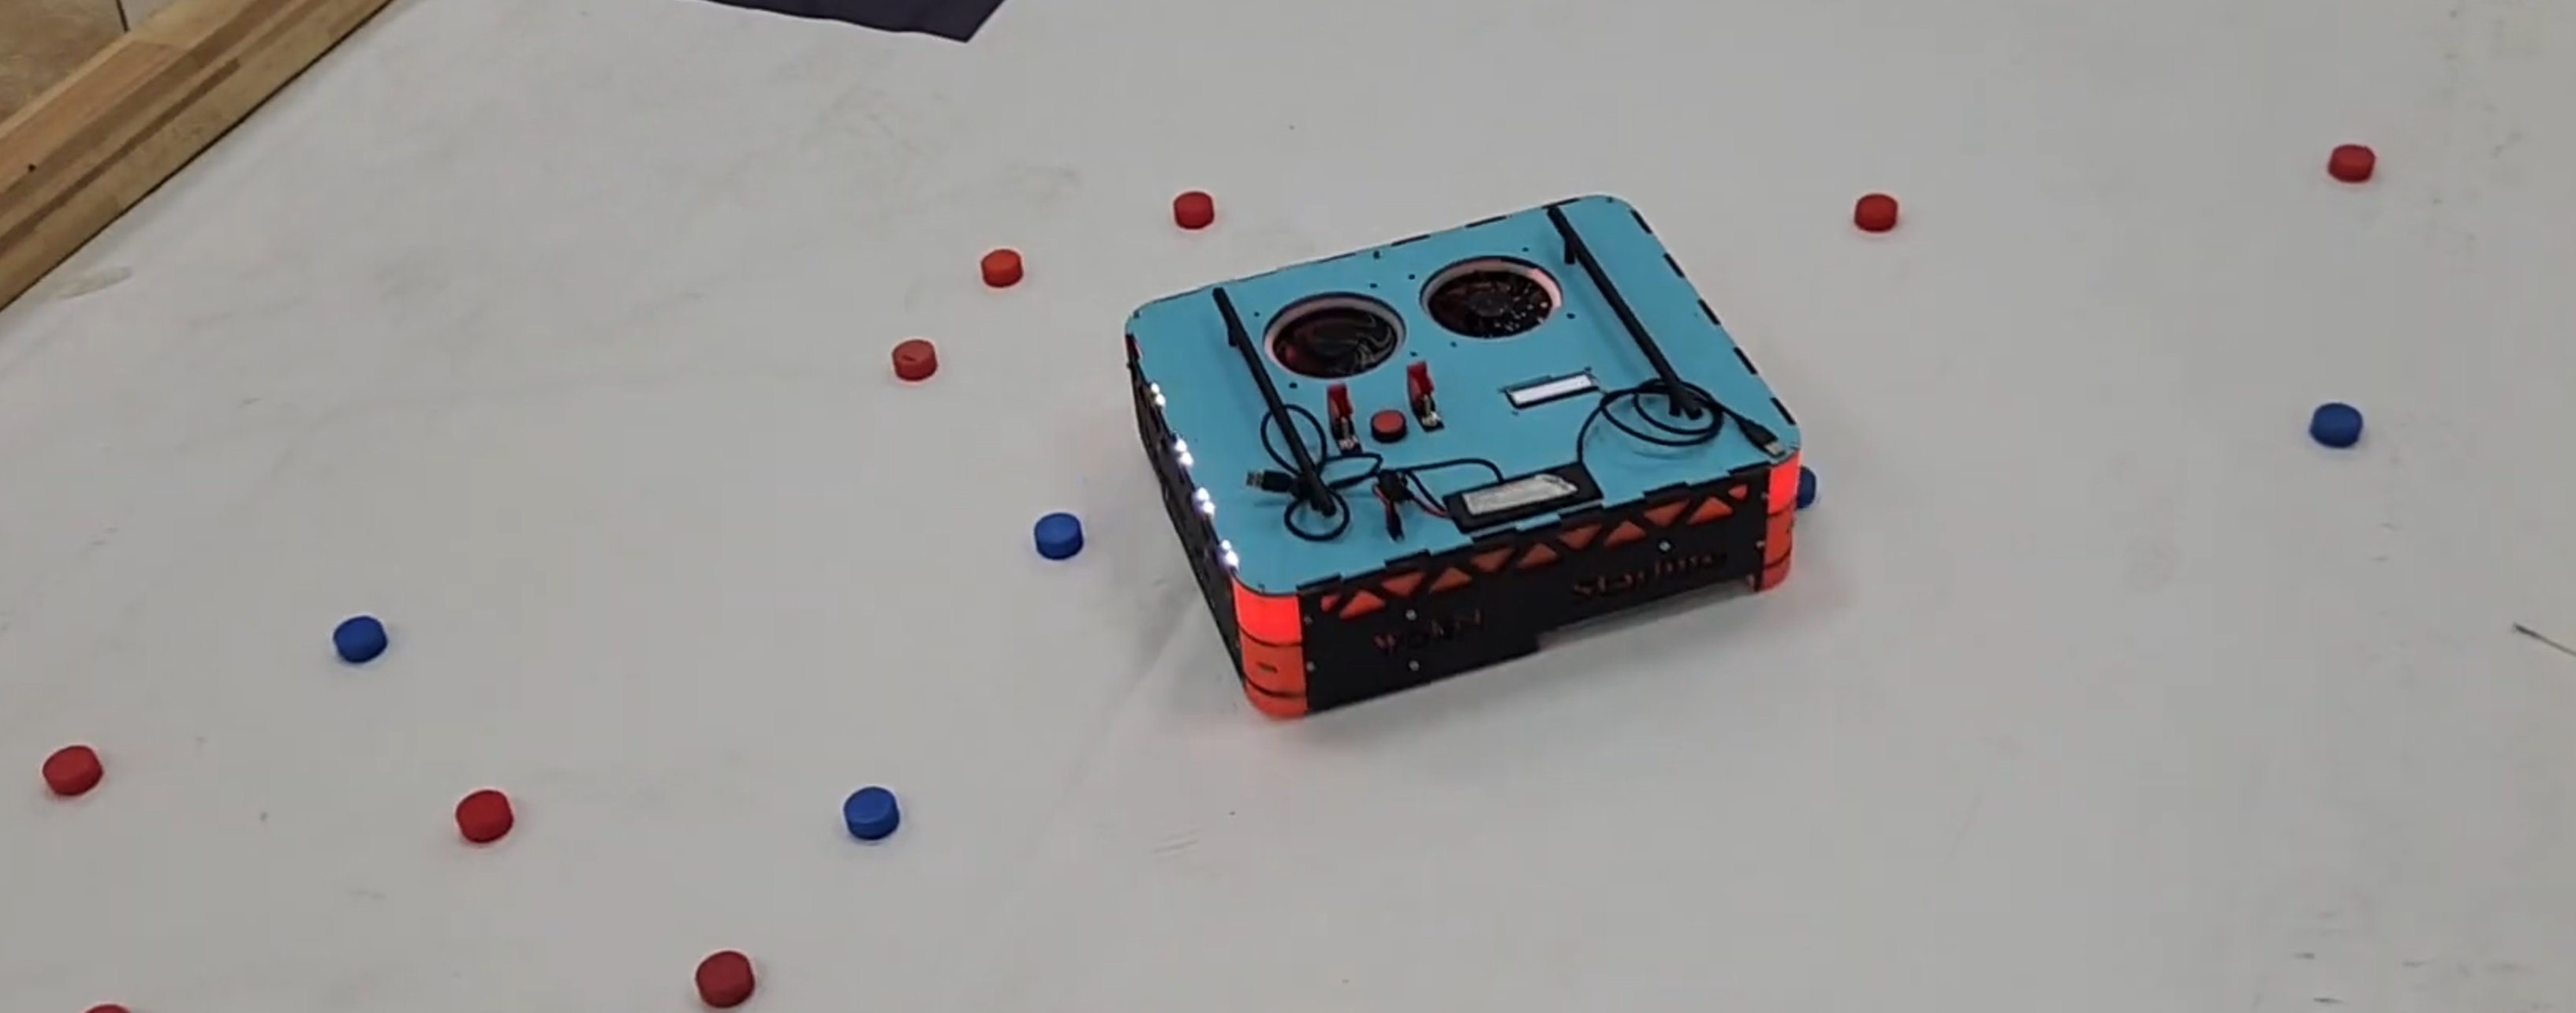blue_puck: (841, 786, 899, 839), (332, 613, 391, 663), (2311, 401, 2364, 451), (1032, 513, 1086, 561)
red_puck: (695, 951, 756, 1003), (457, 788, 513, 842), (44, 747, 97, 798), (976, 248, 1027, 288), (1170, 187, 1214, 230), (892, 339, 935, 380), (2330, 145, 2376, 183), (1853, 194, 1897, 232)
